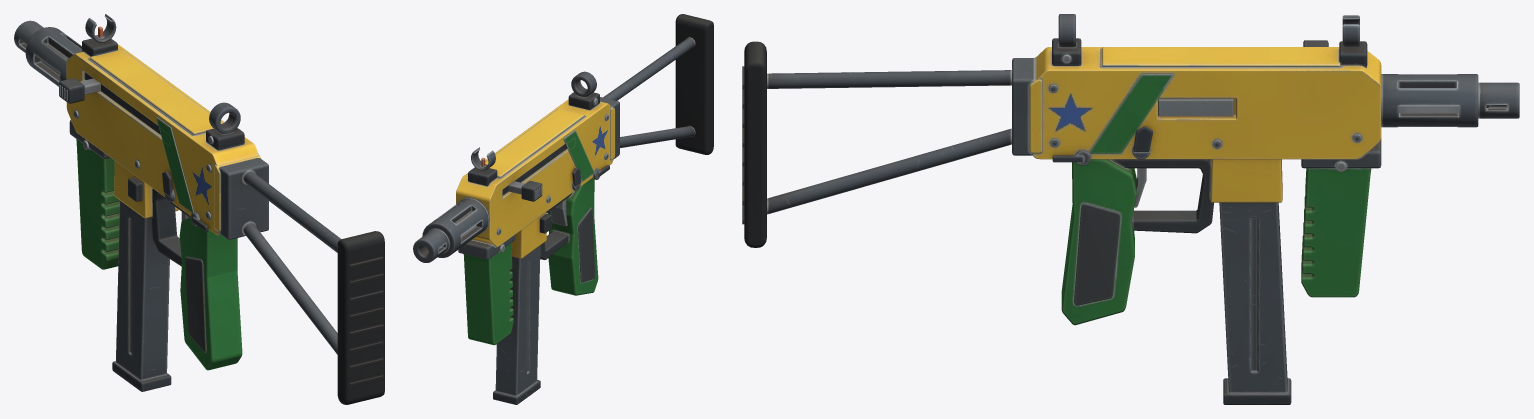
File: smg.glb
3 renders of one model, left to right at view 1: azimuth 30°, elevation 25°; view 2: azimuth 150°, elevation 25°; view 3: azimuth 270°, elevation 25°, orthographic. The views are drawn at different scales.
Visible parts, largest first — view 1: smg_body, smg_mag, smg_charge; view 2: smg_body, smg_mag, smg_charge, smg_trigger; view 3: smg_body, smg_mag, smg_action.
Part boxes in pixels (x1,y1,x2,y2): smg_body: (14,14,384,404); smg_mag: (112,200,171,391); smg_charge: (59,78,100,103); smg_body: (413,14,713,345); smg_mag: (493,245,540,404); smg_charge: (508,181,542,201); smg_trigger: (550,199,567,226); smg_body: (742,14,1519,325); smg_mag: (1219,202,1291,404); smg_action: (1158,98,1233,116).
Bounding box in the file's own units: 0.0783 × 0.316 × 0.5835.
1 material, 1 textured.
